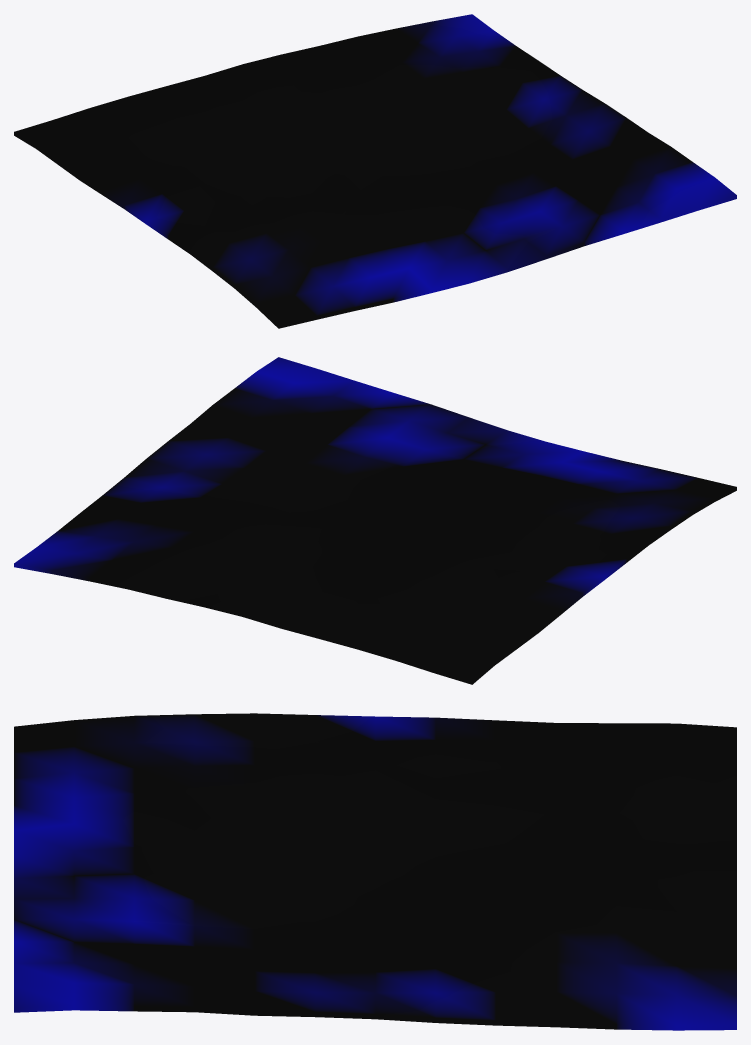
File: coast_10_1.glb
3 views of the same model, one above another, from view 1: azimuth 30°, elevation 25°; view 2: azimuth 150°, elevation 25°; view 3: azimuth 270°, elevation 25° (orthographic). The views are drawn at different scales.
Parts seen in each view (by area): view 1: terrain; view 2: terrain; view 3: terrain.
Boxes of the visible parts, left/top/right/bottom form: terrain: left=14, top=14, right=736, bottom=328; terrain: left=14, top=357, right=736, bottom=684; terrain: left=14, top=713, right=736, bottom=1030.
Size of the model in its own units: 192 by 10.11 by 192.
